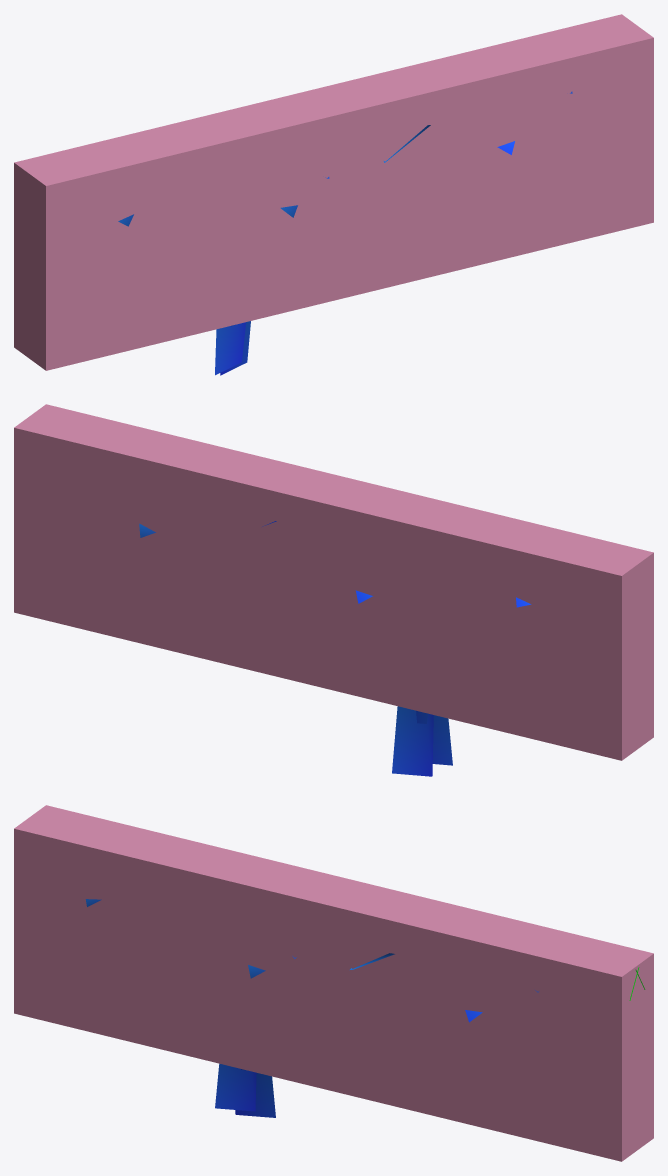
File: vine_side_4m.dae
3 views of the same model, one above another, from view 1: azimuth 30°, elevation 25°; view 2: azimuth 150°, elevation 25°; view 3: azimuth 330°, elevation 25° (orthographic).
Visible parts, largest first — view 1: Untitled, tree_oak_bush_a50; view 2: Untitled, tree_oak_bush_a50; view 3: Untitled, tree_oak_bush_a50.
Boxes of the visible parts, <box> form: Untitled: <box>14,14,653,370</box>; tree_oak_bush_a50: <box>215,321,250,375</box>; Untitled: <box>14,404,653,760</box>; tree_oak_bush_a50: <box>392,706,452,776</box>; Untitled: <box>14,805,653,1161</box>; tree_oak_bush_a50: <box>215,967,645,1117</box>.
Size of the model in its own units: 4.01 by 0.4848 by 1.61.
